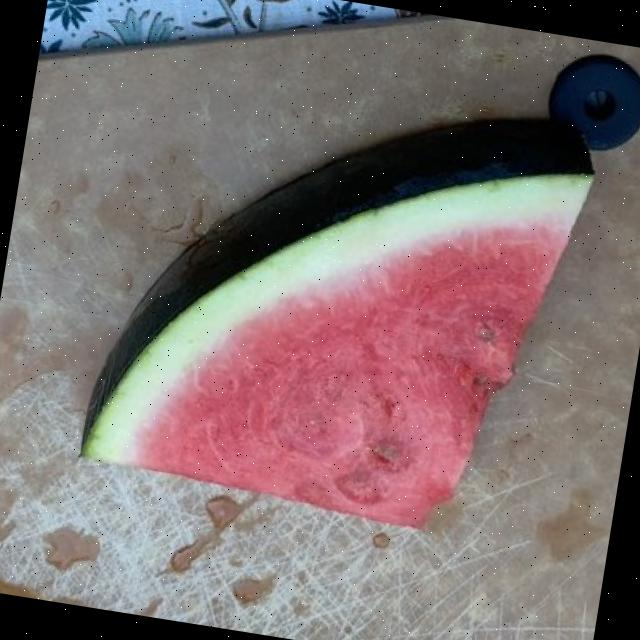watermelon-fresh: (89, 111, 609, 518)
